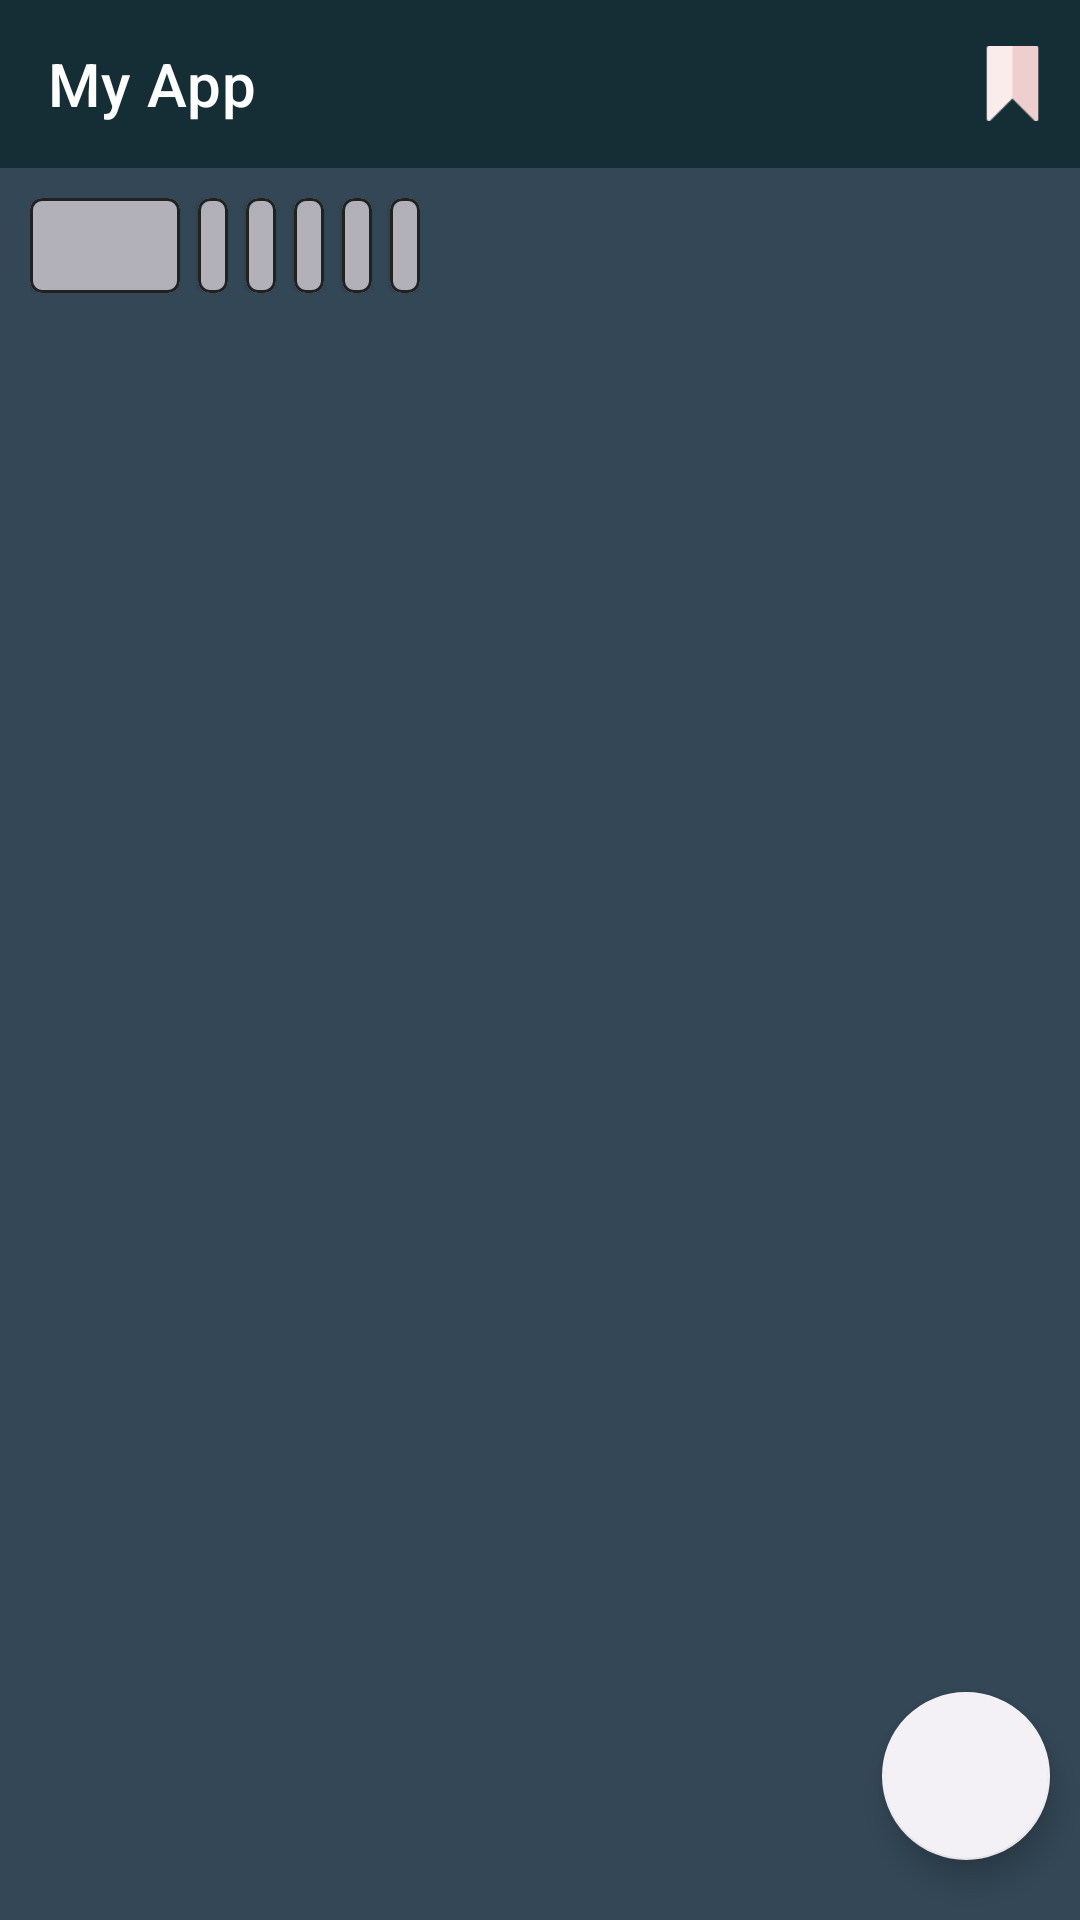

Icons on this 1080×1920 Android screen, each with the point to tap as [x,y]:
watch list icon in main screen: [1012,83]
